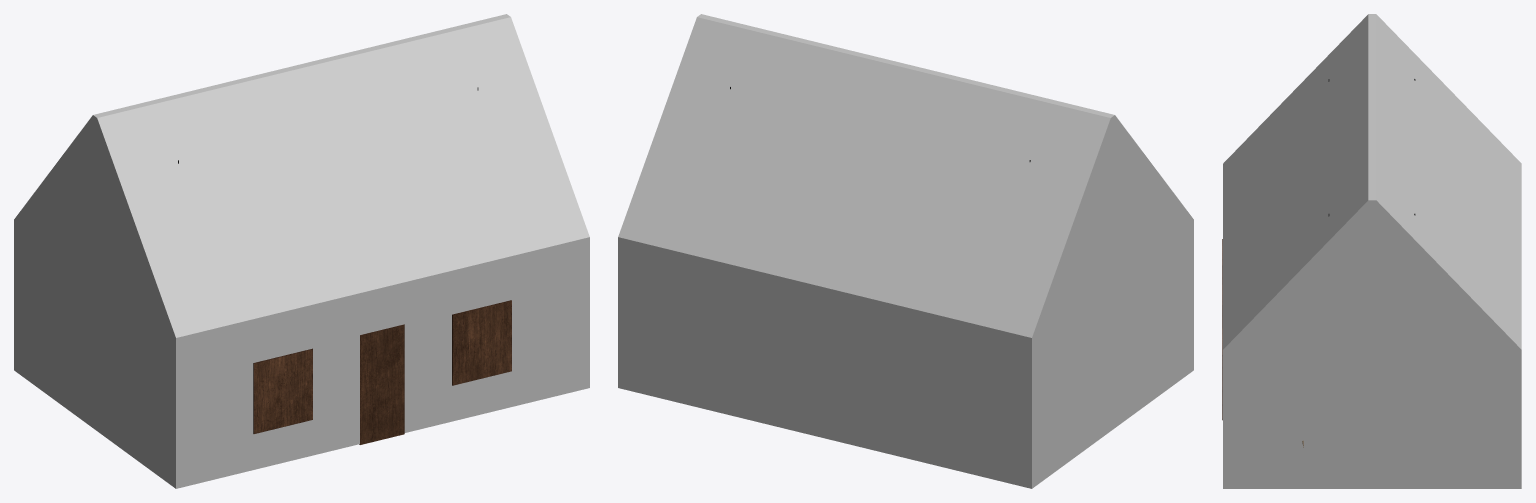
Rendered from house_inside3.fbx.
The picture shows the model from 3 angles, left to right: view 1: azimuth 30°, elevation 25°; view 2: azimuth 150°, elevation 25°; view 3: azimuth 270°, elevation 25°; orthographic projection. The views are drawn at different scales.
Visible parts, largest first — view 1: house3; view 2: house3; view 3: house3.
Boxes of the visible parts, box(x1,y1,x2,y2) form: house3: box(14, 14, 589, 488); house3: box(618, 14, 1193, 488); house3: box(1222, 14, 1521, 488).
Bounding box in the file's own units: 2222 × 1611 × 1508.
